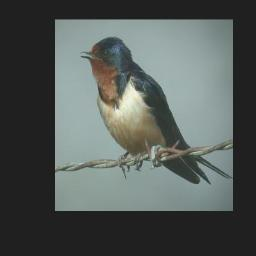Swallow: (80, 36, 233, 184)
